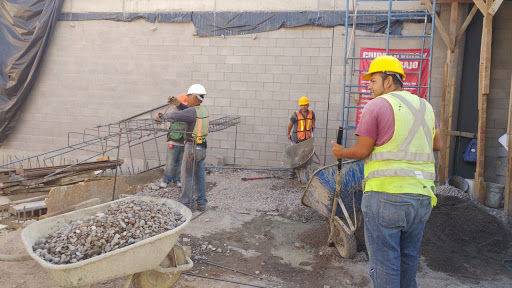casco: (361, 55, 407, 82), (184, 83, 207, 96), (298, 96, 310, 106)
